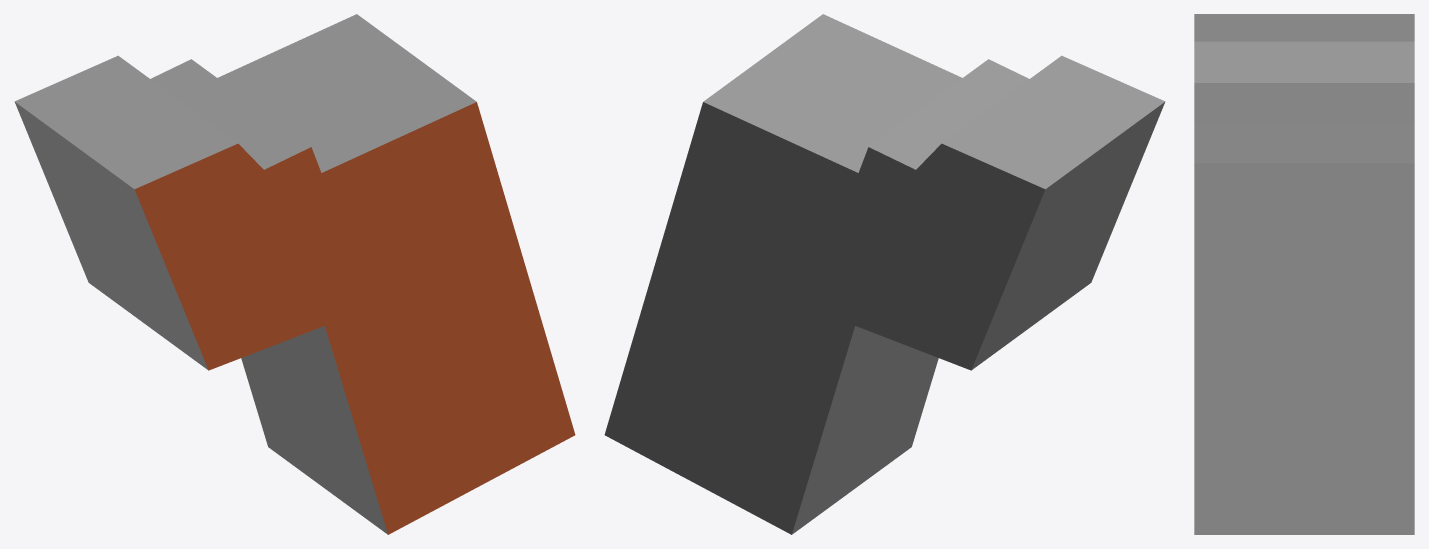
File: construction_1751_assumed_A_Casa_h6m.obj
3 renders of one model, left to right at view 1: azimuth 30°, elevation 25°; view 2: azimuth 150°, elevation 25°; view 3: azimuth 270°, elevation 25°, orthographic. The views are drawn at different scales.
Parts seen in each view (by area): view 1: construction_1751_assumed_A_Casa; view 2: construction_1751_assumed_A_Casa; view 3: construction_1751_assumed_A_Casa.
Part boxes in pixels (x1,y1,x2,y2): construction_1751_assumed_A_Casa: (14,14,575,534); construction_1751_assumed_A_Casa: (604,14,1165,534); construction_1751_assumed_A_Casa: (1194,14,1414,534).
Size of the model in its own units: 12.72 by 11.8 by 6.
